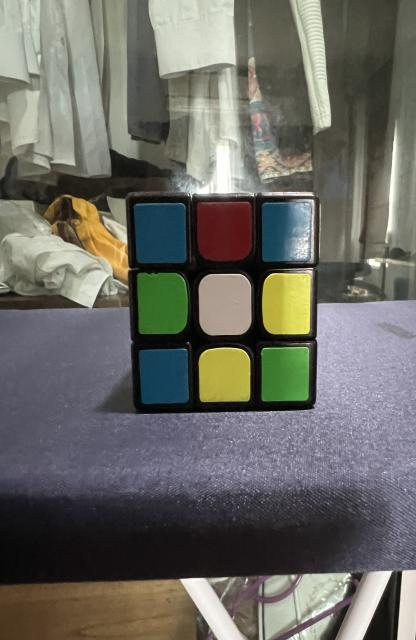Blue: (134, 202, 186, 264), (262, 202, 312, 261), (139, 349, 188, 404)
Green: (136, 272, 188, 334), (261, 346, 310, 401)
Red: (197, 201, 252, 261)
White: (198, 274, 251, 336)
Yellow: (262, 272, 311, 335), (198, 348, 250, 402)
